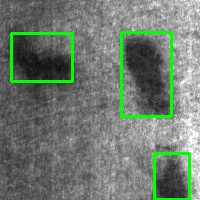patches: (121, 32, 171, 116), (11, 33, 72, 81), (154, 153, 189, 199)
